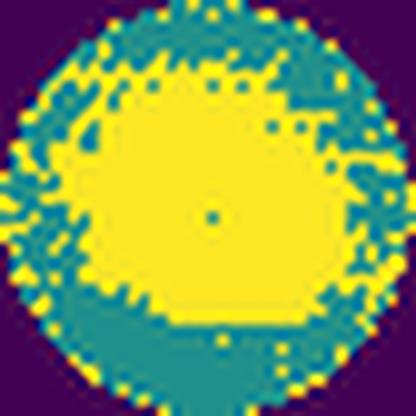Center: (48, 60, 355, 326)
